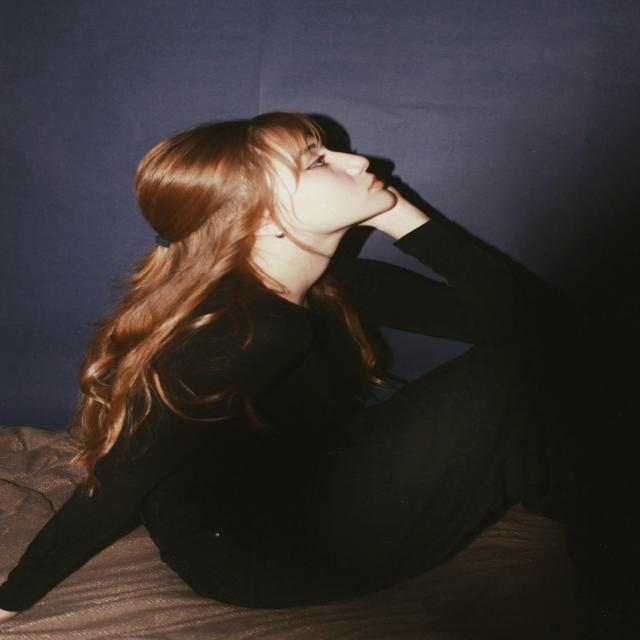sit: (85, 100, 640, 640)
